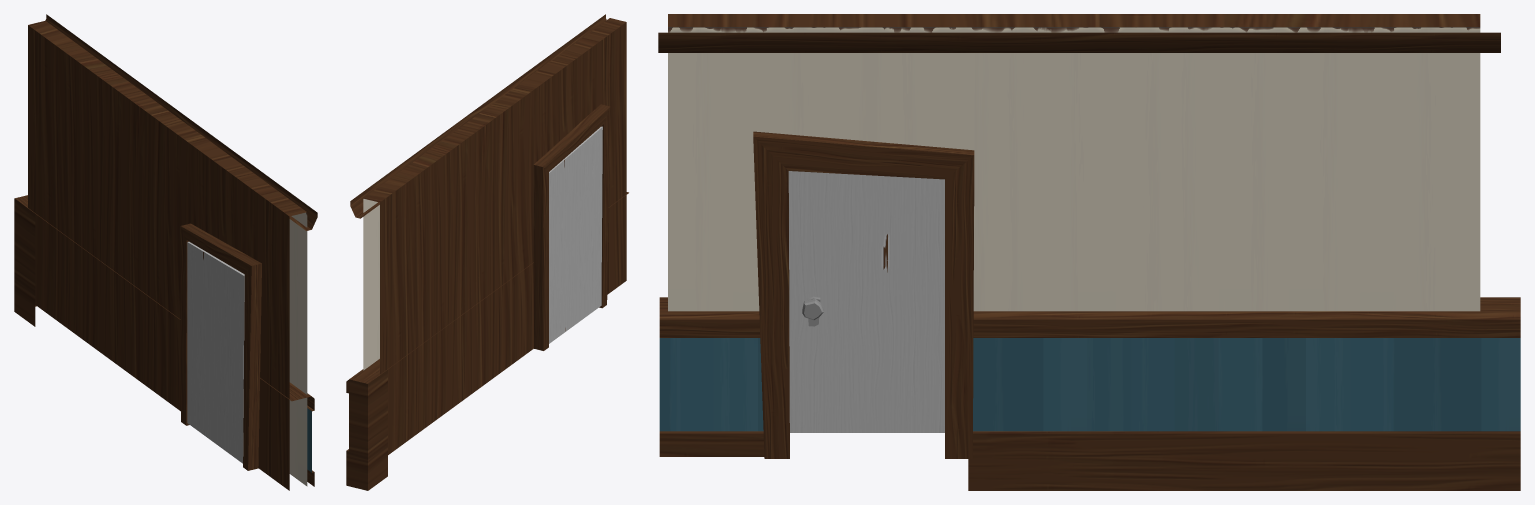
Rendered from Wall_1.fbx.
The picture shows the model from 3 angles, left to right: view 1: azimuth 30°, elevation 25°; view 2: azimuth 150°, elevation 25°; view 3: azimuth 270°, elevation 25°; orthographic projection. The views are drawn at different scales.
Visible parts, largest first — view 1: Midnight_Antics_House_Build_V1.002; view 2: Midnight_Antics_House_Build_V1.002; view 3: Midnight_Antics_House_Build_V1.002.
Boxes of the visible parts, x1,y1,x2,y2 form: Midnight_Antics_House_Build_V1.002: (14, 14, 317, 490); Midnight_Antics_House_Build_V1.002: (346, 14, 628, 490); Midnight_Antics_House_Build_V1.002: (658, 14, 1520, 490).
Size of the model in its own units: 4038 by 32404 by 55055.
